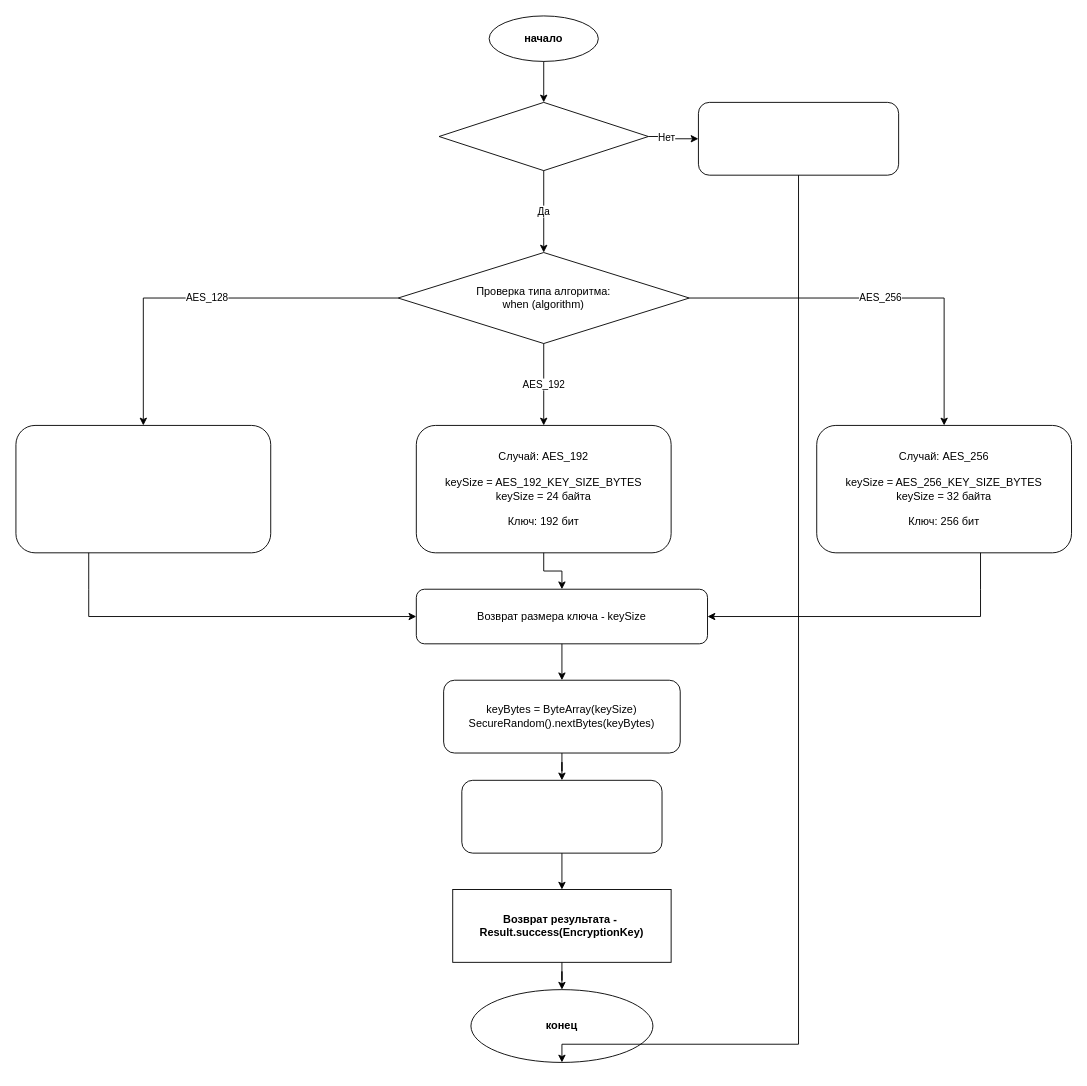
Image size: 1087x1086. Some labels were removed from this diagram. The box of each missing label's shape, as (x1, y1, x2, y2) in pixels:
EncryptionKey( value = keyBytes, algorithm = algorithm ): (461, 779, 662, 853)
Бросок исключения: UnsupportedAlgorithmError(algorithm, "AesEncryptionService"): (698, 101, 899, 175)
Проверка того, что алгоритм поддерживается: (438, 101, 648, 171)
Случай: AES_128 keySize = AES_128_KEY_SIZE_BYTES keySize = 16 байт Ключ: 128 бит: (15, 425, 271, 553)
